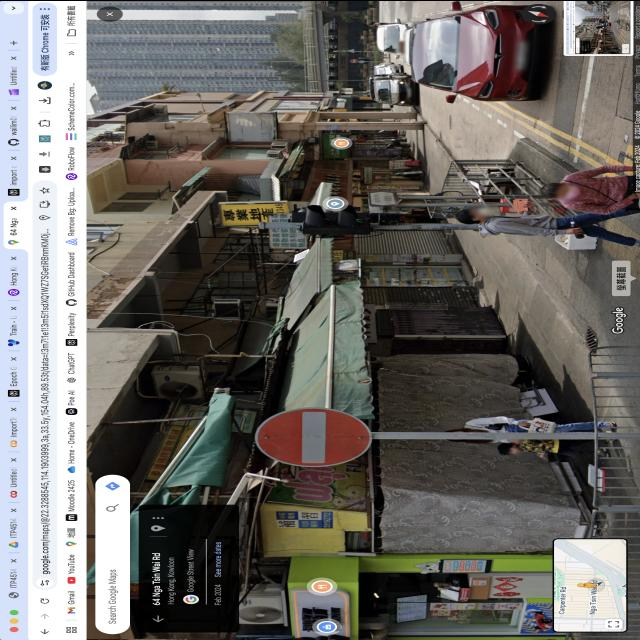Order-Sign: (238, 400, 378, 472)
